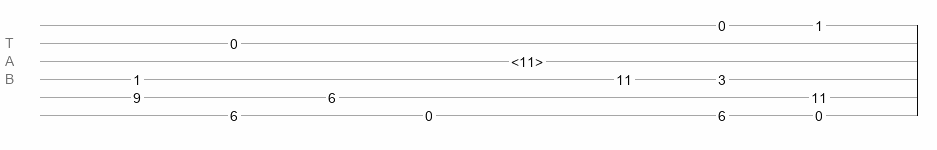0: (230, 36, 238, 46), (425, 108, 433, 118), (718, 18, 726, 28), (815, 108, 823, 118)
1: (133, 72, 141, 82), (815, 18, 823, 28)
11: (616, 72, 632, 82), (811, 90, 827, 100)
3: (718, 72, 726, 82)
6: (230, 108, 238, 118), (328, 90, 336, 100), (718, 108, 726, 118)
9: (133, 90, 141, 100)
harmonic: (511, 54, 543, 64)
